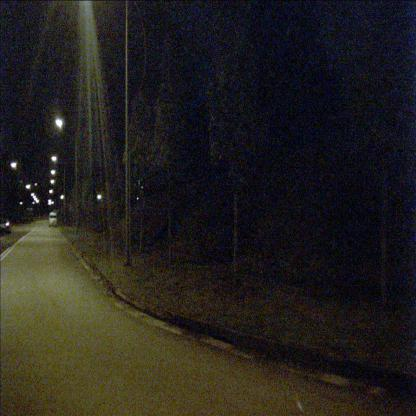vehicle-car: (0, 217, 10, 233), (49, 212, 57, 227)
